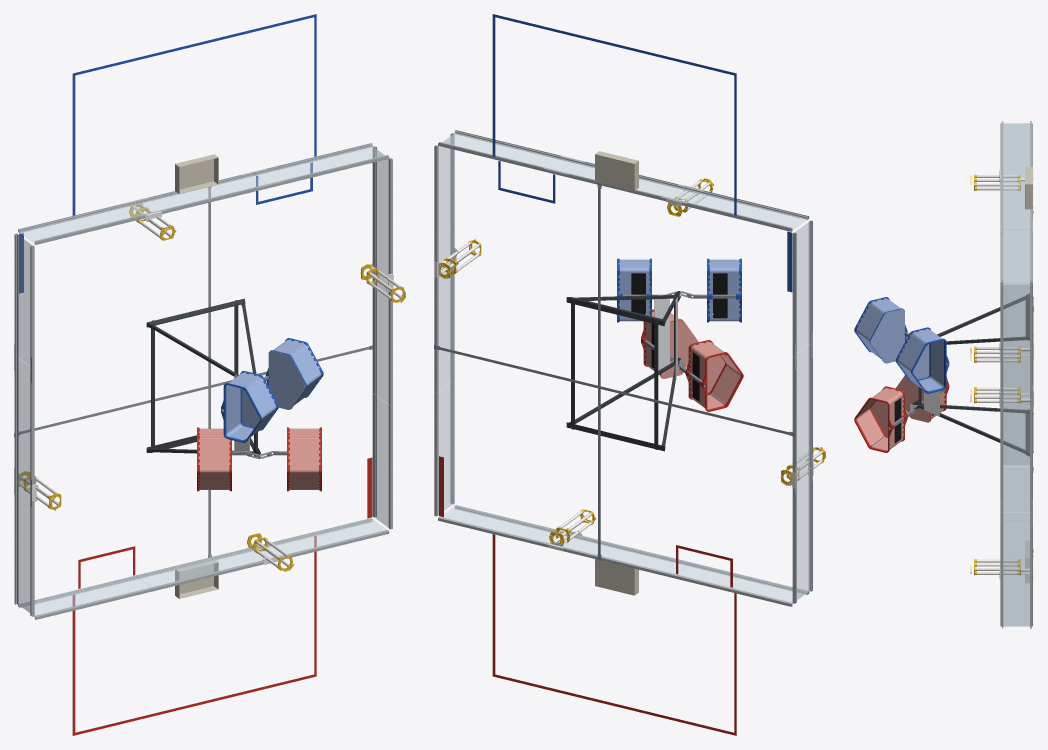
The model's file is biobuzz-2026.glb.
The picture shows the model from 3 angles, left to right: view 1: azimuth 30°, elevation 25°; view 2: azimuth 150°, elevation 25°; view 3: azimuth 270°, elevation 25°; orthographic projection. The views are drawn at different scales.
Visible parts, largest first — view 1: wall_glass, wall, hive_skin_blue, hive_skin_red, frame, tray, tape_red, tape_blue, misc, flower_pipe, flower, hive_rib_blue (+1 smaller); view 2: wall_glass, wall, frame, hive_skin_red, tray, tape_blue, tape_red, misc, hive_skin_blue, flower_pipe, flower, tag_blue (+3 smaller); view 3: wall_glass, hive_skin_blue, wall, hive_skin_red, flower_pipe, frame, hive_rib_blue, hive_rib_red, tray, flower, frame_panel.
Boxes of the visible parts, x1,y1,x2,y2 form: wall_glass: (18, 146, 388, 615); wall: (14, 143, 392, 619); hive_skin_blue: (226, 339, 321, 440); hive_skin_red: (198, 428, 320, 489); frame: (146, 298, 260, 458); tray: (175, 154, 218, 598); tape_red: (72, 457, 372, 735); tape_blue: (19, 14, 316, 293); misc: (14, 186, 372, 557); flower_pipe: (19, 200, 401, 567); flower: (18, 203, 405, 571); hive_rib_blue: (221, 338, 323, 442); wall_glass: (438, 133, 809, 602); wall: (434, 130, 812, 606); frame: (566, 291, 680, 451); hive_skin_red: (644, 310, 740, 409); tray: (595, 151, 638, 595); tape_blue: (492, 14, 792, 292); tape_red: (439, 456, 736, 735); misc: (434, 182, 795, 560); hive_skin_blue: (618, 259, 740, 321); flower_pipe: (434, 180, 822, 551); flower: (439, 178, 825, 545); tag_blue: (631, 273, 727, 318); wall_glass: (1003, 123, 1029, 626); hive_skin_blue: (856, 298, 943, 391); wall: (1000, 121, 1032, 628); hive_skin_red: (856, 375, 945, 450); flower_pipe: (974, 170, 1033, 579); frame: (912, 293, 1033, 456); hive_rib_blue: (854, 297, 949, 393); hive_rib_red: (854, 377, 949, 452); tray: (1025, 166, 1032, 582); flower: (970, 174, 1020, 575); frame_panel: (924, 371, 939, 416).
Size of the model in its own units: 144 by 251 by 66.83.
